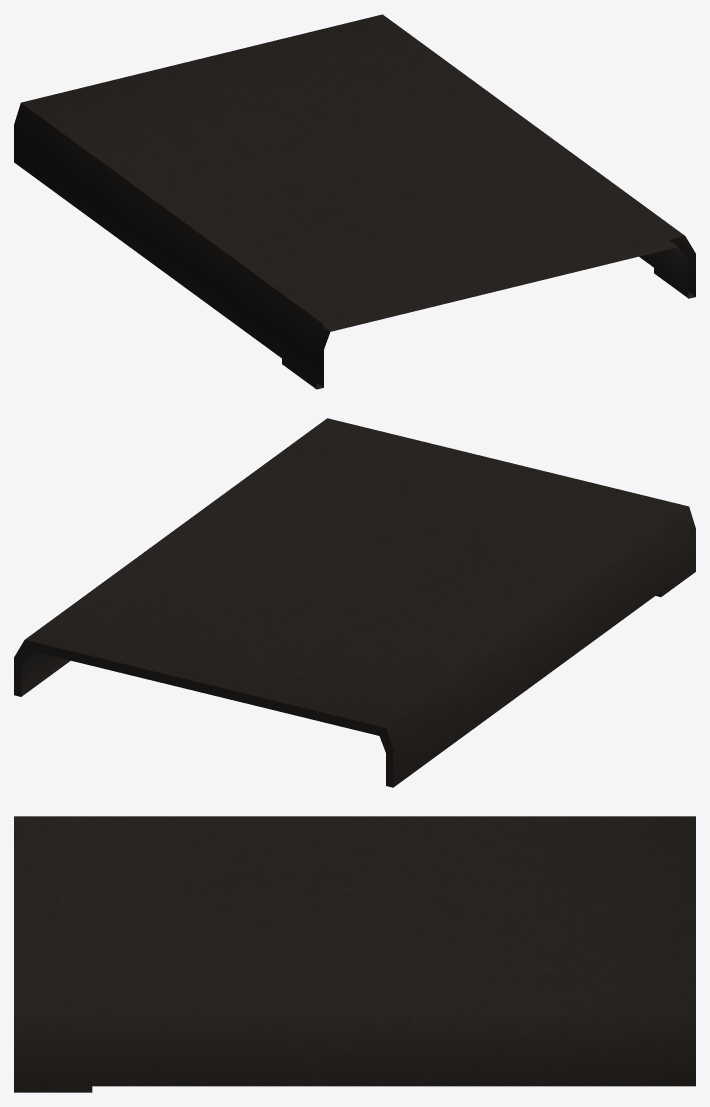
The model's file is hatch_tyag.fbx.
3 views of the same model, one above another, from view 1: azimuth 30°, elevation 25°; view 2: azimuth 150°, elevation 25°; view 3: azimuth 270°, elevation 25° (orthographic). The views are drawn at different scales.
Parts seen in each view (by area): view 1: hatch_tyag; view 2: hatch_tyag; view 3: hatch_tyag.
Boxes of the visible parts, x1,y1,x2,y2 form: hatch_tyag: [14, 14, 695, 389]; hatch_tyag: [14, 418, 695, 787]; hatch_tyag: [14, 816, 695, 1092].
Size of the model in its own units: 0.2133 by 0.0342 by 0.2949.
